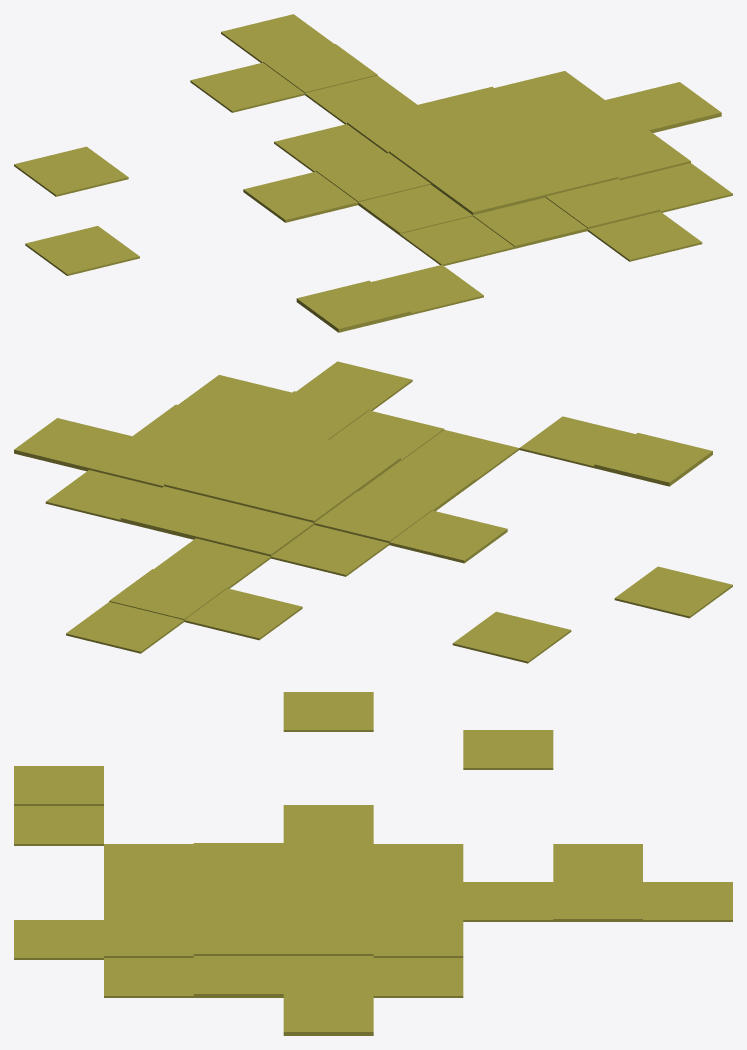
Rendered from SM_Terrain_Bare_04.fbx.
3 renders of one model, top to bottom at view 1: azimuth 30°, elevation 25°; view 2: azimuth 150°, elevation 25°; view 3: azimuth 270°, elevation 25°, orthographic. The views are drawn at different scales.
Parts seen in each view (by area): view 1: SM_Tile_Bare_04; view 2: SM_Tile_Bare_04; view 3: SM_Tile_Bare_04.
Boxes of the visible parts, box(x1,y1,x2,y2) form: SM_Tile_Bare_04: box(14, 14, 732, 332); SM_Tile_Bare_04: box(14, 361, 732, 663); SM_Tile_Bare_04: box(14, 692, 732, 1035).
Bounding box in the file's own units: 3600 × 30 × 3200.
